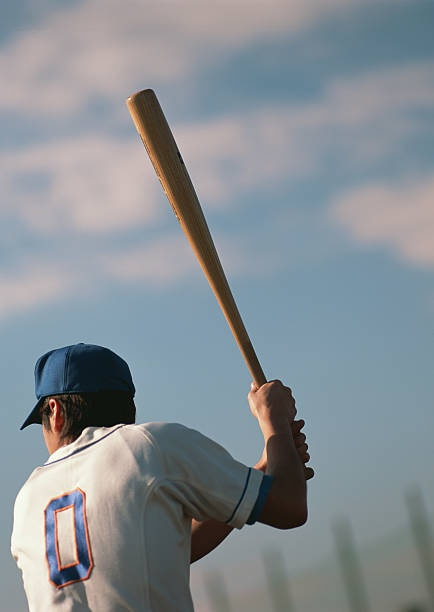bita: (128, 94, 267, 395)
